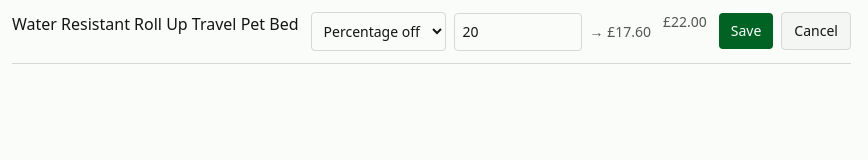
Test: ItemRow — editing › previews the discounted price as you type
The width and height of the screenshot is (868, 160).
Replace the text in the number field named "Percent off for" with "50" at (518, 32), box [454,12,582,50]
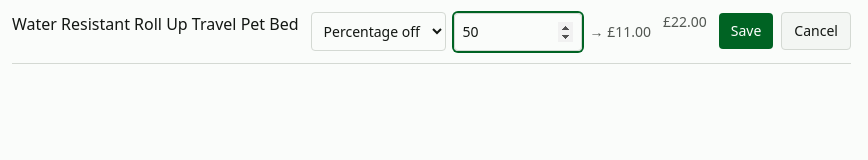
Result: the text "→ £11.00" is shown at [590,22,651,42]
